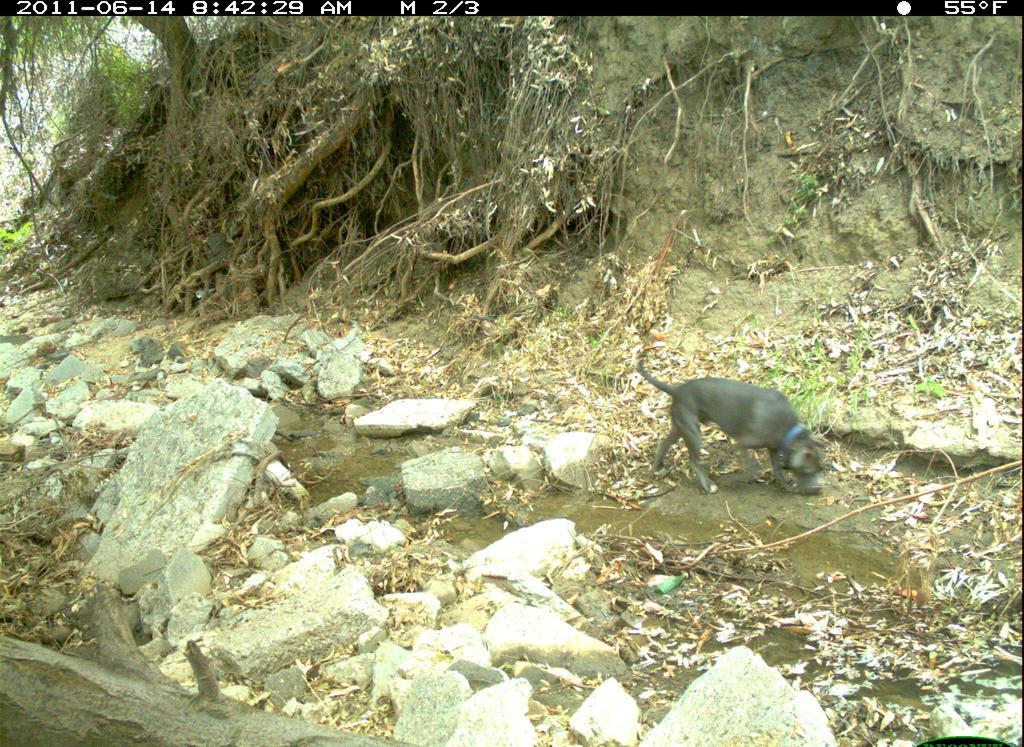dog: (612, 337, 852, 510)
